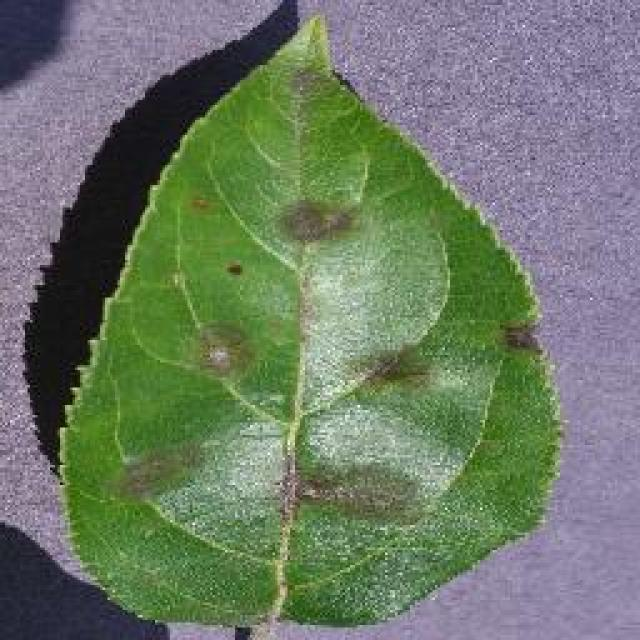apple scab disease: (53, 13, 565, 635)
